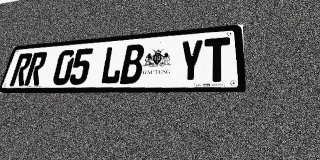0: (51, 49, 76, 85)
5: (68, 48, 93, 85)
B: (119, 44, 145, 84)
L: (99, 45, 125, 84)
R: (24, 52, 48, 86), (9, 53, 33, 86)
T: (204, 37, 231, 82)
Y: (178, 39, 204, 83)
